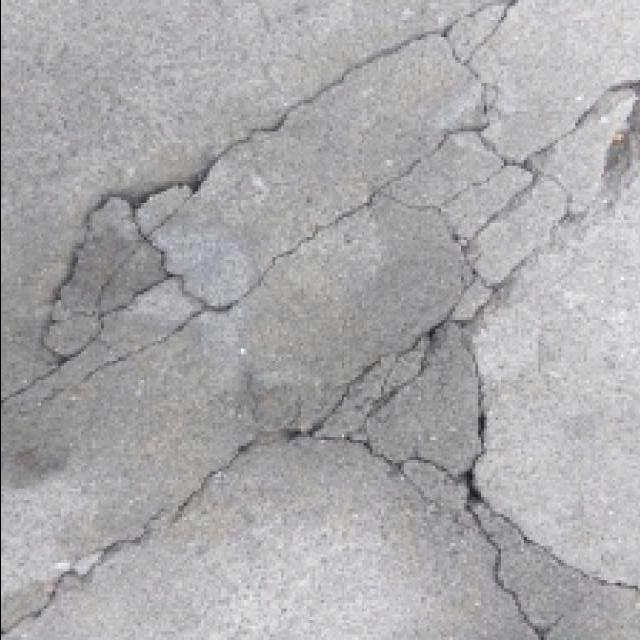SurfaceCrack: (22, 36, 478, 410), (0, 368, 434, 620), (412, 46, 640, 326), (414, 426, 640, 640)
